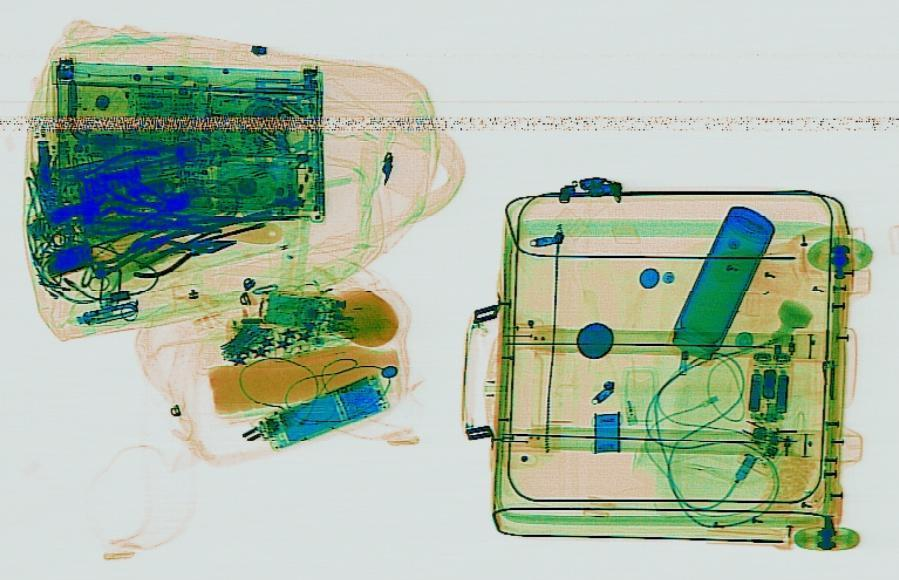Pliers: (112, 223, 246, 281)
